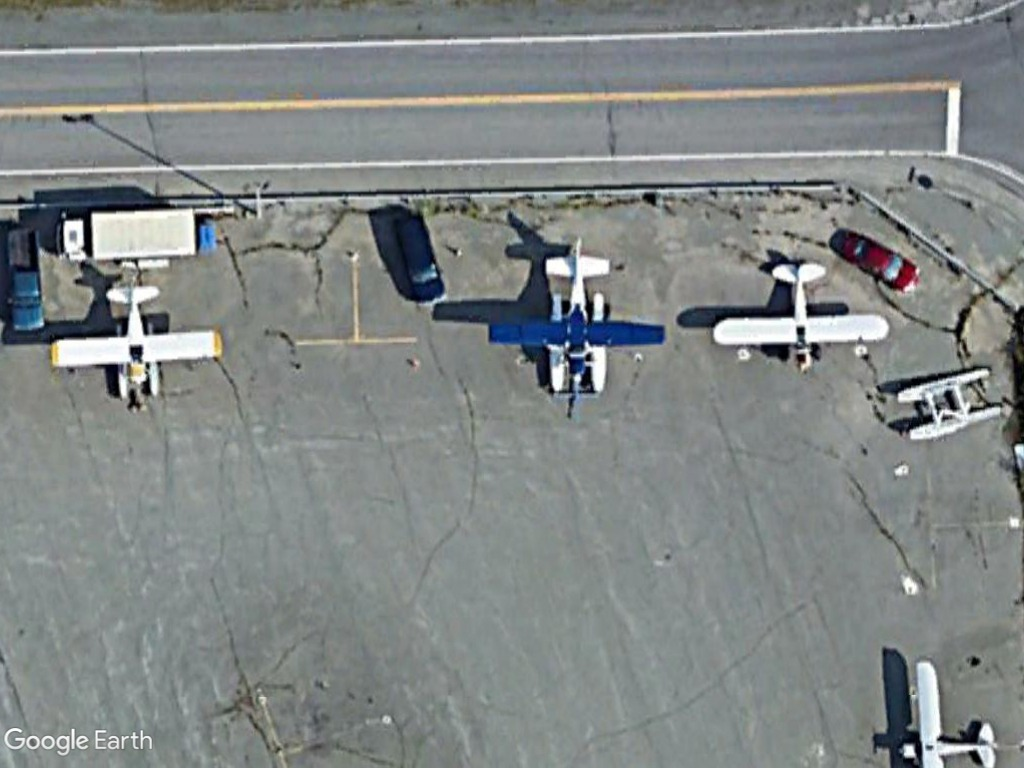car: (839, 225, 925, 298)
other: (1, 224, 48, 337)
trainer: (43, 280, 224, 408), (710, 252, 895, 377)
truck: (53, 204, 200, 264)
van: (390, 211, 449, 307)
